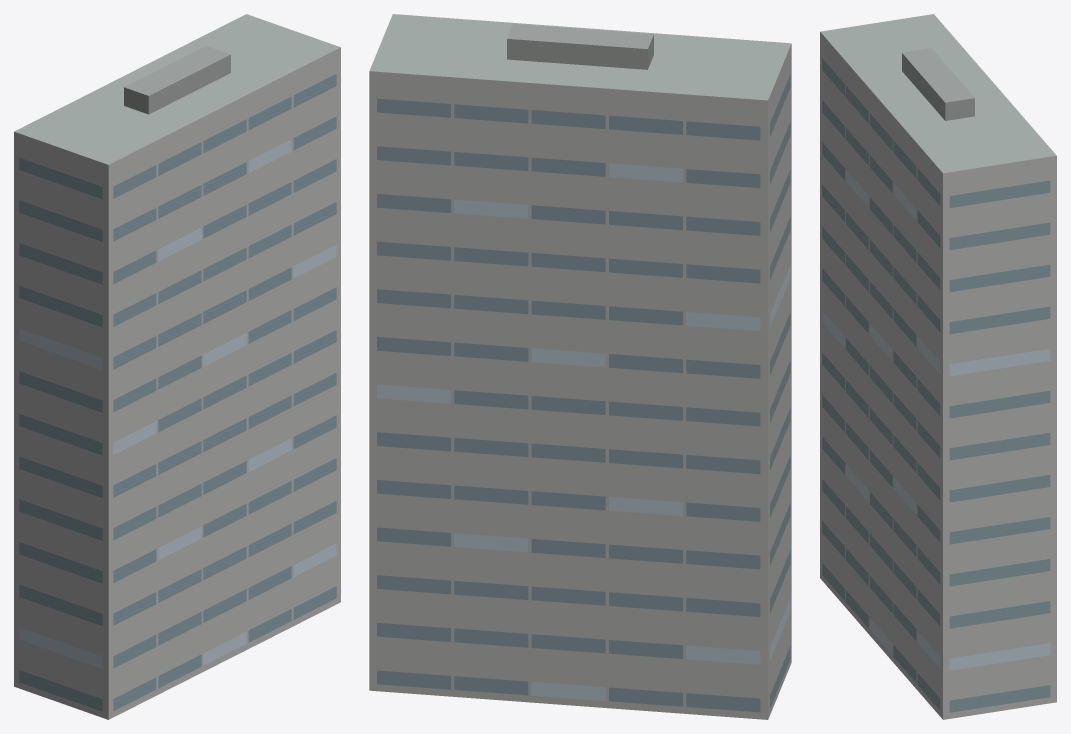
Rendered from fallback-songpa-helio-city-304.glb.
3 renders of one model, left to right at view 1: azimuth 30°, elevation 25°; view 2: azimuth 150°, elevation 25°; view 3: azimuth 270°, elevation 25°, orthographic. The views are drawn at different scales.
Parts seen in each view (by area): view 1: fallback-songpa-helio-city-304; view 2: fallback-songpa-helio-city-304; view 3: fallback-songpa-helio-city-304.
Part boxes in pixels (x1,y1,x2,y2): fallback-songpa-helio-city-304: (14, 14, 340, 719); fallback-songpa-helio-city-304: (369, 14, 791, 719); fallback-songpa-helio-city-304: (820, 14, 1056, 719).
Size of the model in its own units: 44.76 by 74 by 28.1.
